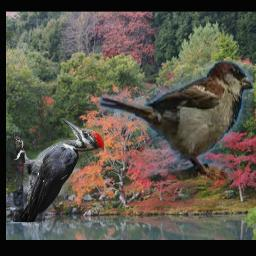Sparrow: (99, 61, 253, 180)
Woodpecker: (14, 119, 105, 223)
